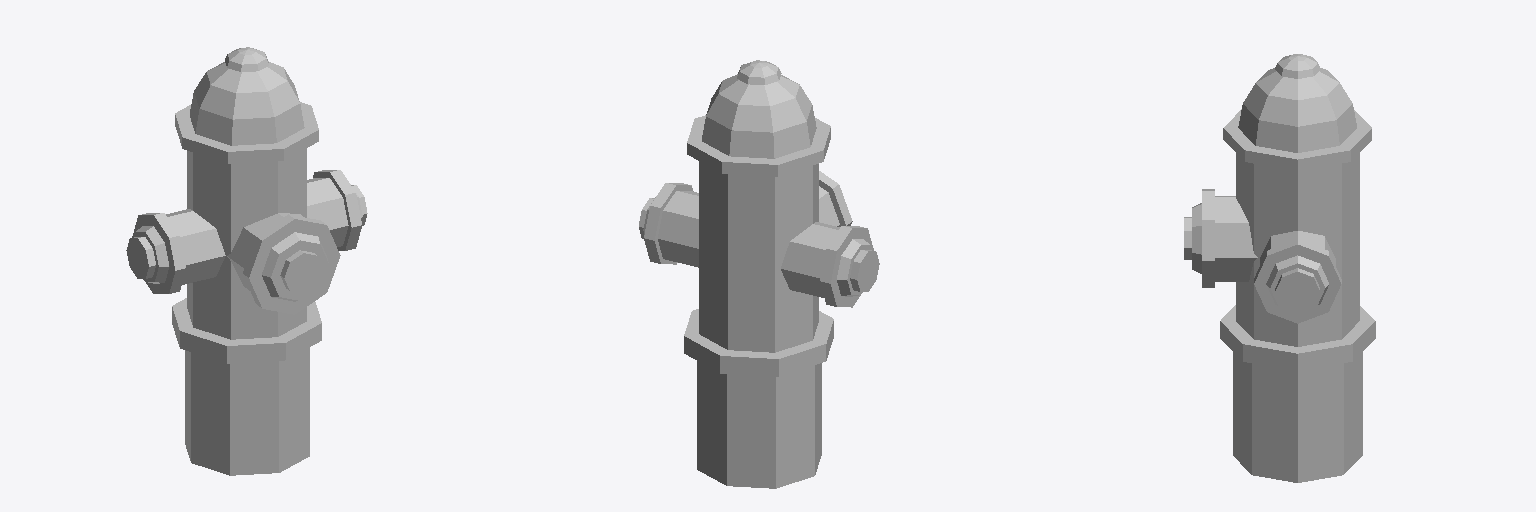
The model's file is fire_hydrant.obj.
3 renders of one model, left to right at view 1: azimuth 30°, elevation 25°; view 2: azimuth 150°, elevation 25°; view 3: azimuth 270°, elevation 25°, orthographic.
Bounding box in the file's own units: 3.9 × 6.81 × 2.95.